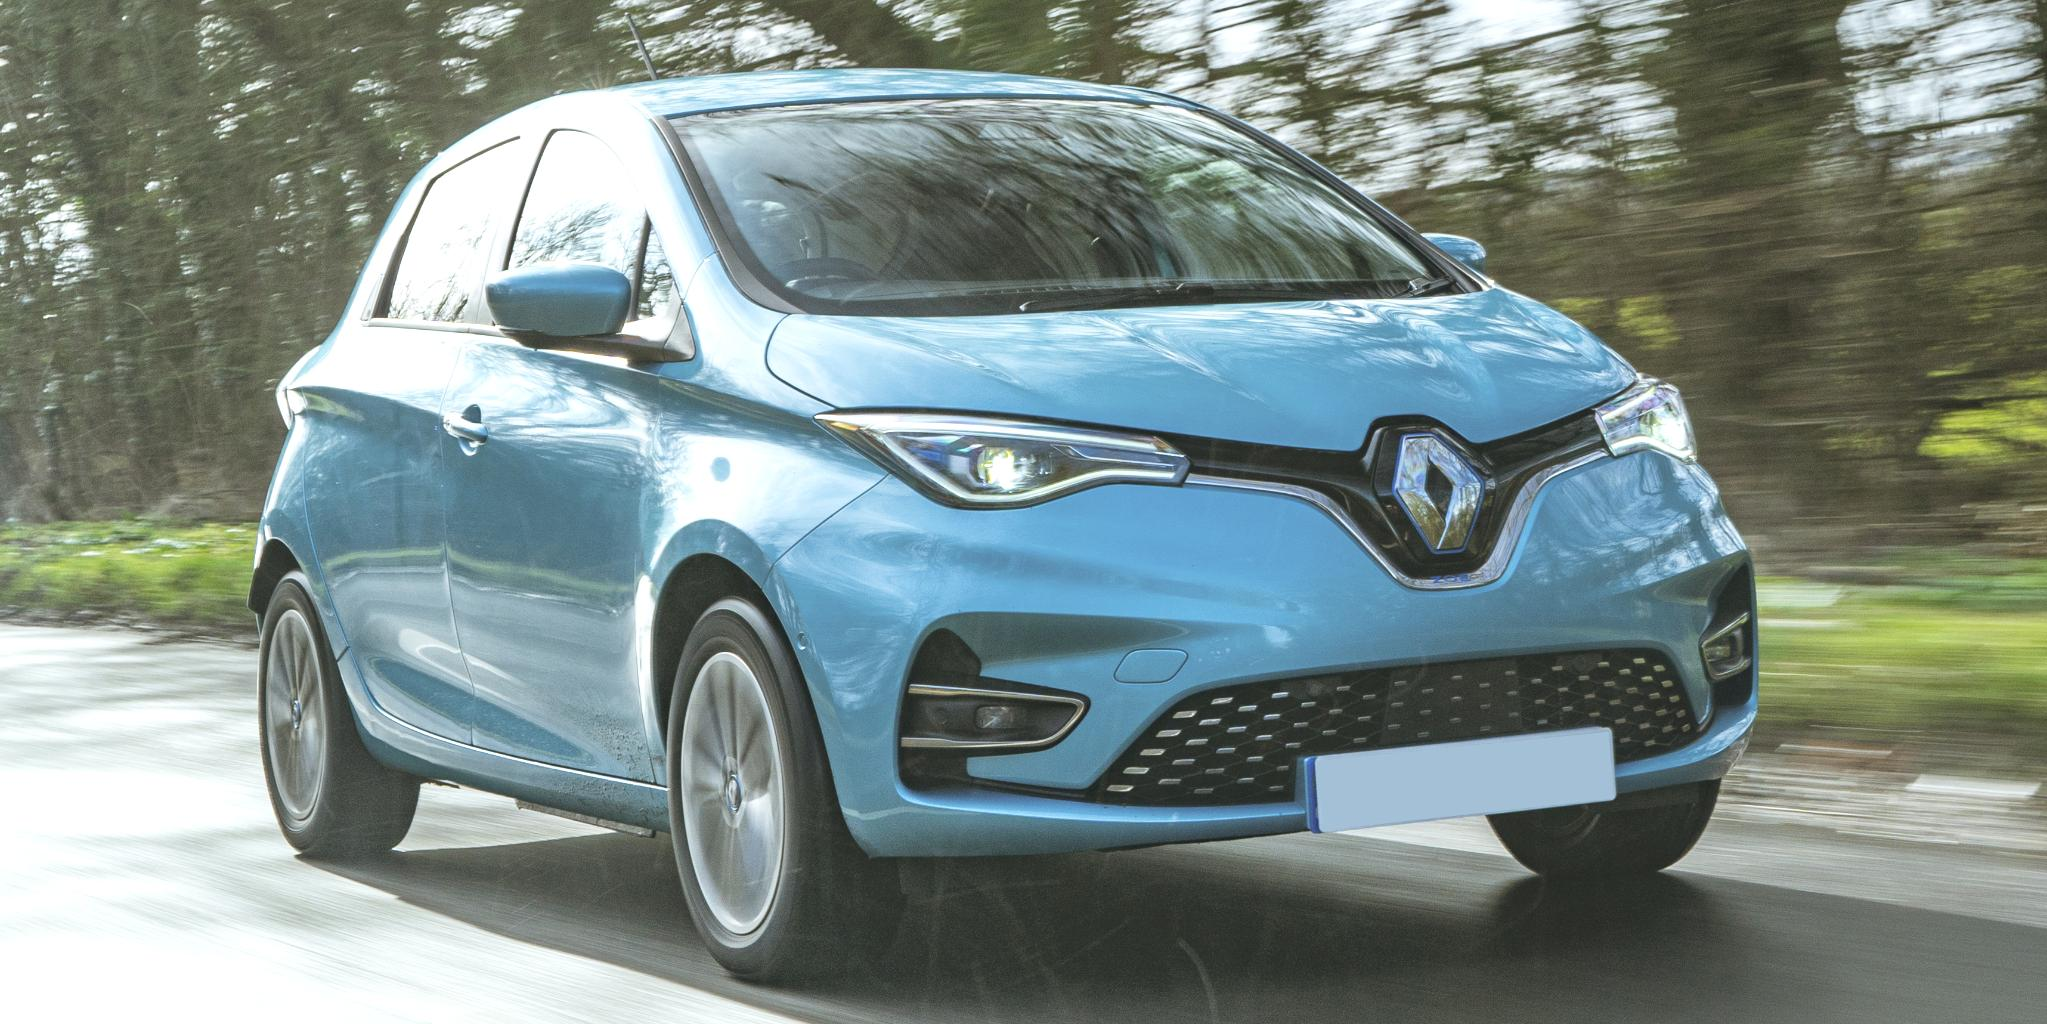Renault: (1377, 418, 1501, 569)
